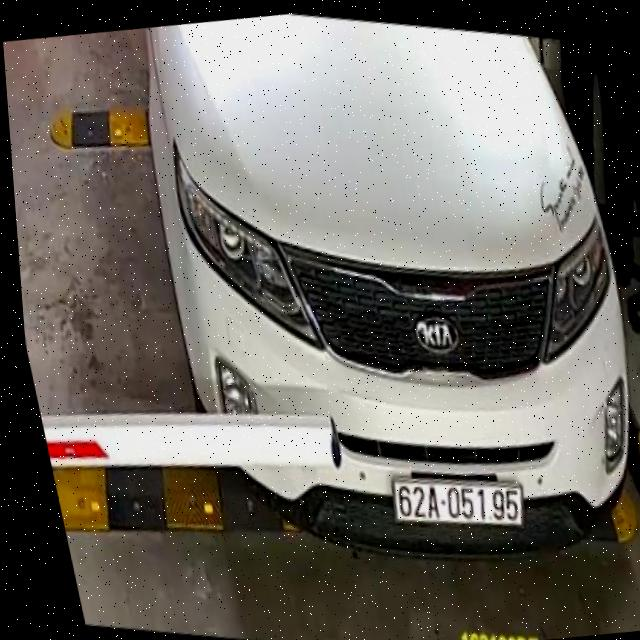car: (130, 15, 636, 571)
plate: (385, 472, 530, 530)
